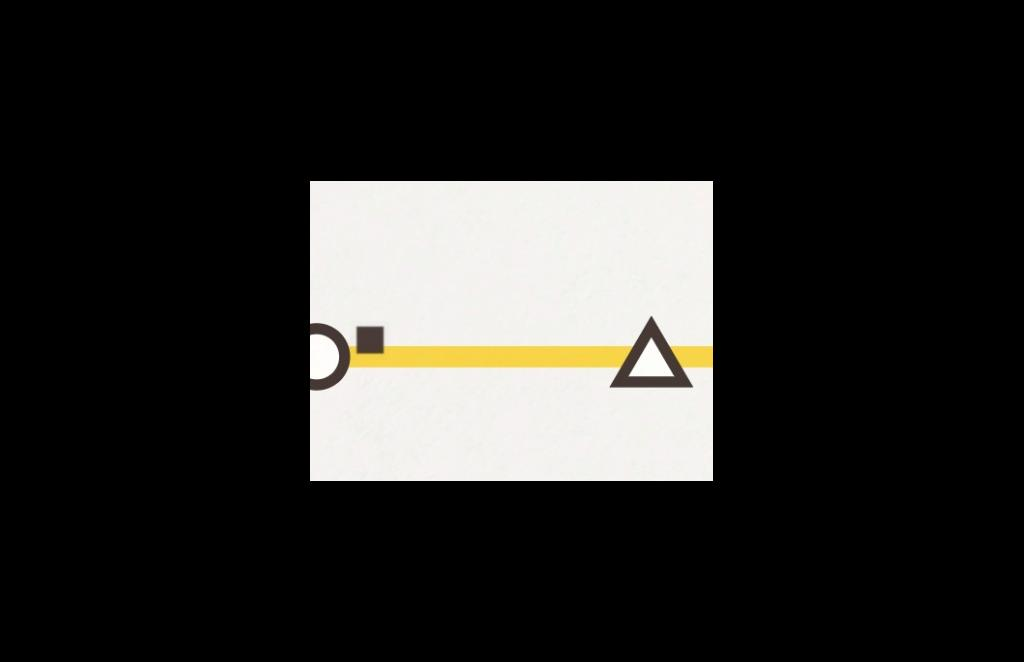connected_station: (604, 309, 707, 409), (310, 313, 360, 397)
